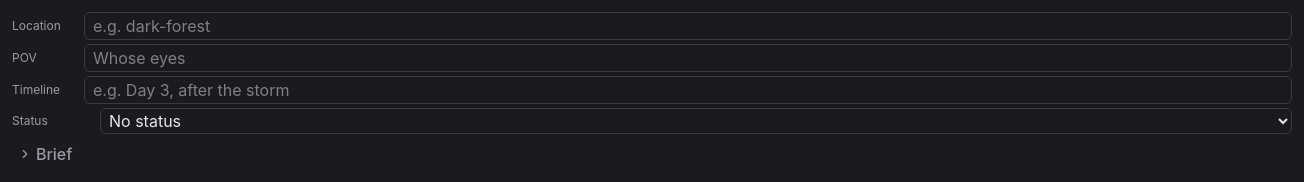
Test: MetadataPane timeline picker (F-11.2) › offers the events as "When: Label" in story order, and picking one links the node
Step 1. Press ArrowDown in the dropdown labelled "Timeline", box [84, 76, 1292, 104]
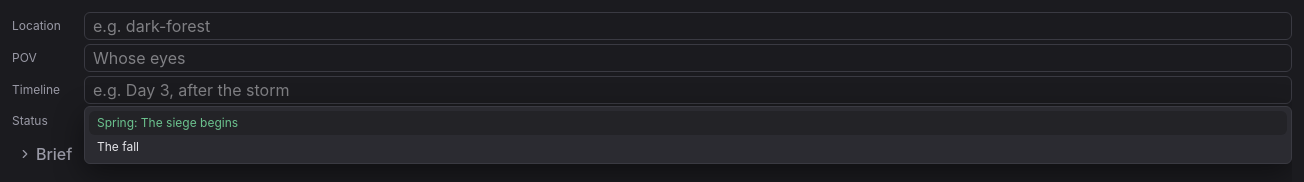
Now the options read "Spring: The siege begins", "The fall", in this order
Step 2. Click the option "Spring: The siege begins" → (168, 122), box [89, 111, 1287, 135]
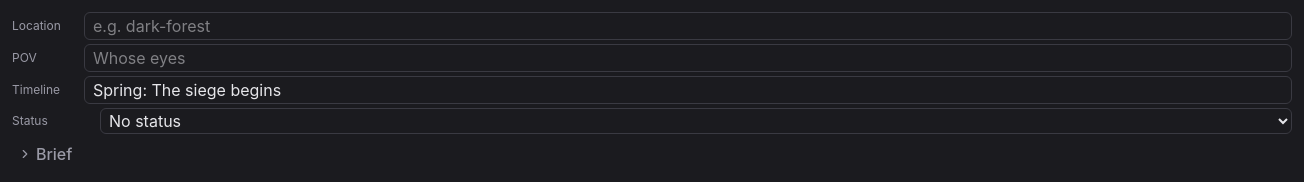
Now the dropdown labelled "Timeline" holds "Spring: The siege begins", box [84, 76, 1292, 104]
